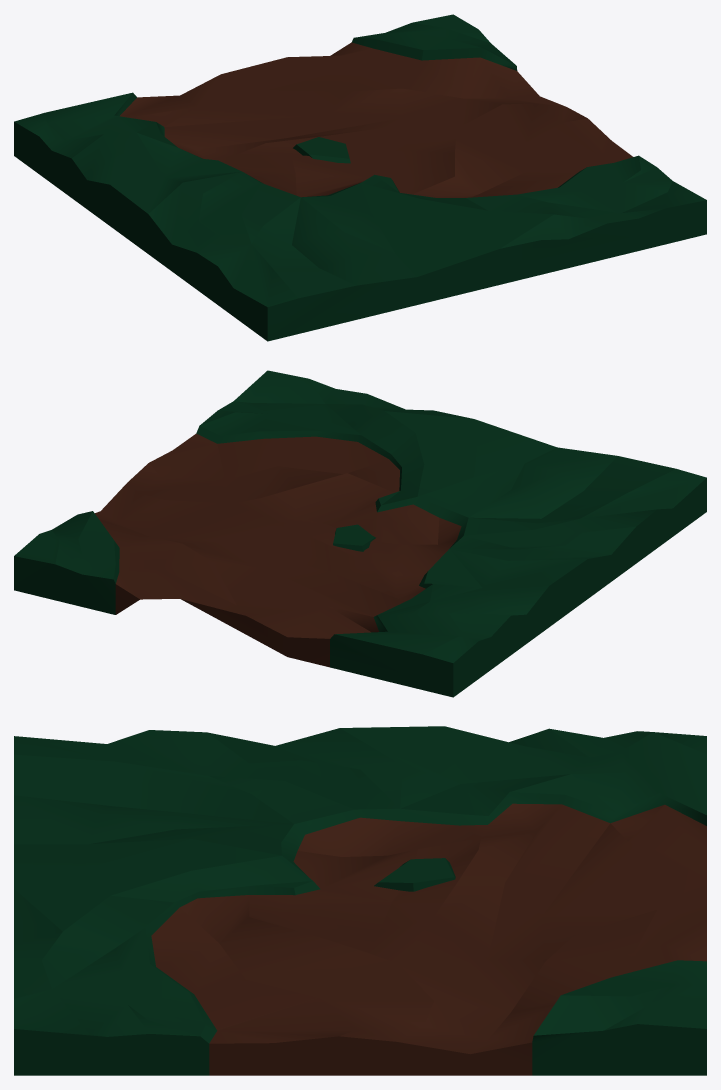
File: Ground_Path_Turn_LB.fbx
The picture shows the model from 3 angles, top to bottom: view 1: azimuth 30°, elevation 25°; view 2: azimuth 150°, elevation 25°; view 3: azimuth 270°, elevation 25°; orthographic projection. The views are drawn at different scales.
Visible parts, largest first — view 1: Ground_Path_Turn_LB; view 2: Ground_Path_Turn_LB; view 3: Ground_Path_Turn_LB.
Boxes of the visible parts, x1=… form: Ground_Path_Turn_LB: x1=14, y1=14, x2=706, y2=341; Ground_Path_Turn_LB: x1=14, y1=370, x2=706, y2=697; Ground_Path_Turn_LB: x1=14, y1=726, x2=706, y2=1075.
Size of the model in its own units: 147 by 14.83 by 147.
